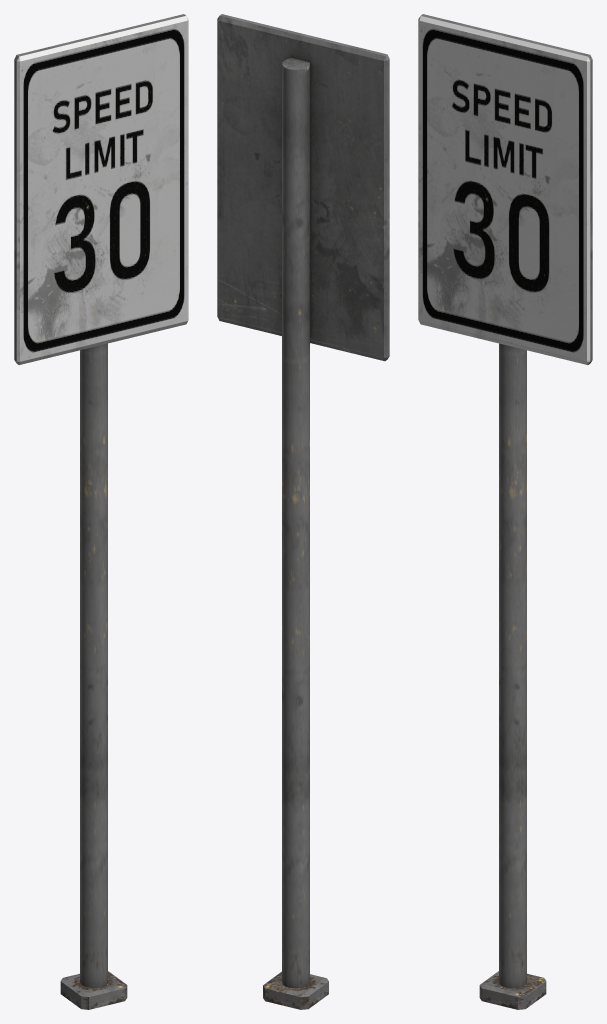
File: 30mph_speed_limit_sign.glb
The picture shows the model from 3 angles, left to right: view 1: azimuth 30°, elevation 25°; view 2: azimuth 150°, elevation 25°; view 3: azimuth 330°, elevation 25°; orthographic projection.
Visible parts, largest first — view 1: pCube1, pCylinder2, pCube2; view 2: pCube1, pCylinder2, pCube2; view 3: pCube1, pCylinder2, pCube2.
Part boxes in pixels (left/top/right/bottom): pCube1: left=14, top=14, right=188, bottom=364; pCylinder2: left=80, top=343, right=107, bottom=987; pCube2: left=60, top=971, right=127, bottom=1009; pCube1: left=217, top=14, right=389, bottom=361; pCylinder2: left=282, top=58, right=309, bottom=988; pCube2: left=263, top=971, right=328, bottom=1009; pCube1: left=418, top=14, right=592, bottom=364; pCylinder2: left=499, top=343, right=526, bottom=987; pCube2: left=479, top=971, right=546, bottom=1009.
Bounding box in the file's own units: 0.2362 × 1.27 × 0.0624.
Materials: 1 (1 with a texture image).
